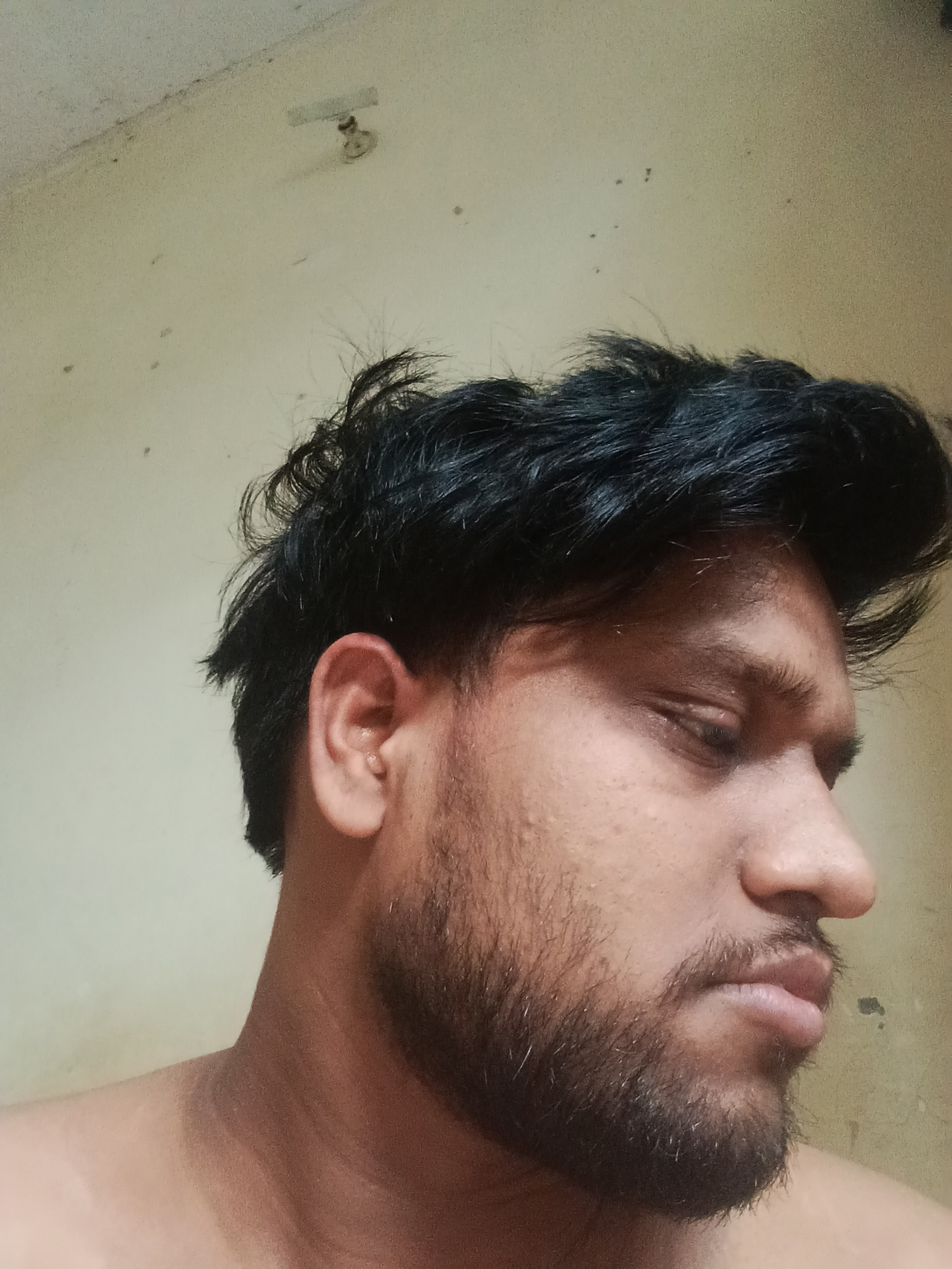closed_comedone: (517, 814, 535, 848), (509, 829, 532, 846), (545, 816, 554, 835), (524, 816, 534, 827), (587, 884, 596, 888), (620, 875, 625, 882), (564, 819, 570, 824), (564, 830, 570, 835), (620, 803, 624, 809)
pustule: (588, 884, 598, 889)
